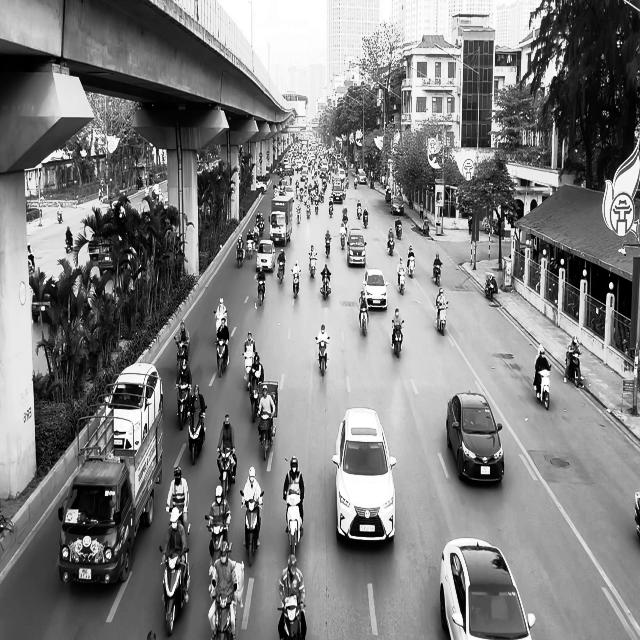car: (440, 538, 536, 640), (332, 407, 397, 544), (446, 391, 505, 484), (104, 363, 163, 456), (362, 268, 389, 310), (347, 228, 367, 267), (256, 238, 276, 272), (391, 196, 404, 215)
motorbike: (160, 545, 190, 635), (240, 489, 264, 566), (205, 513, 231, 564), (211, 592, 238, 639), (284, 492, 304, 555), (278, 595, 306, 639), (188, 409, 207, 465), (217, 448, 236, 500), (257, 410, 276, 460), (534, 364, 552, 410), (175, 383, 192, 430), (564, 351, 585, 388), (248, 375, 263, 423), (216, 338, 230, 378), (316, 336, 330, 376), (392, 320, 404, 358), (174, 338, 189, 368), (436, 300, 448, 336), (320, 270, 332, 300), (485, 273, 497, 301), (359, 306, 369, 336), (432, 262, 443, 287), (292, 269, 301, 298), (257, 277, 266, 306), (277, 259, 286, 284), (236, 243, 245, 268), (397, 270, 406, 294), (309, 254, 317, 278), (408, 254, 415, 278), (387, 237, 395, 256), (422, 219, 430, 236), (65, 236, 73, 253), (325, 238, 331, 257), (340, 231, 346, 250), (363, 209, 369, 228), (396, 222, 402, 240)
